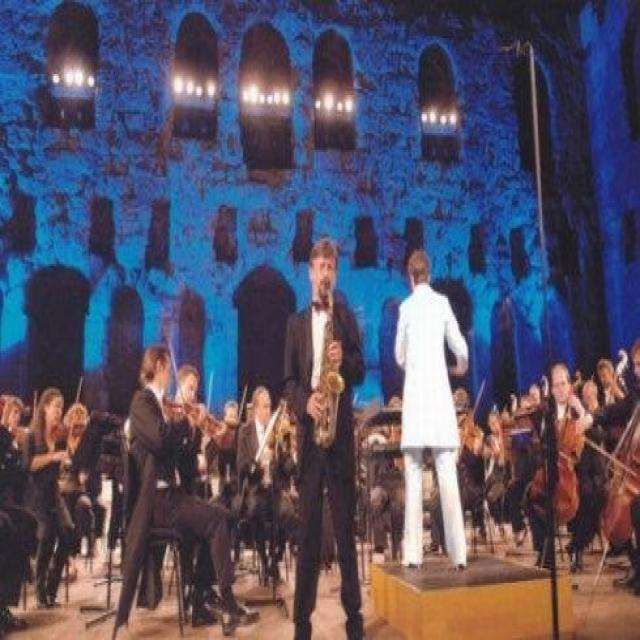cello: (532, 367, 581, 531), (599, 394, 640, 551)
saxophone: (312, 276, 345, 453)
violin: (197, 400, 234, 446), (456, 411, 483, 455), (48, 418, 92, 443), (162, 399, 193, 422)
